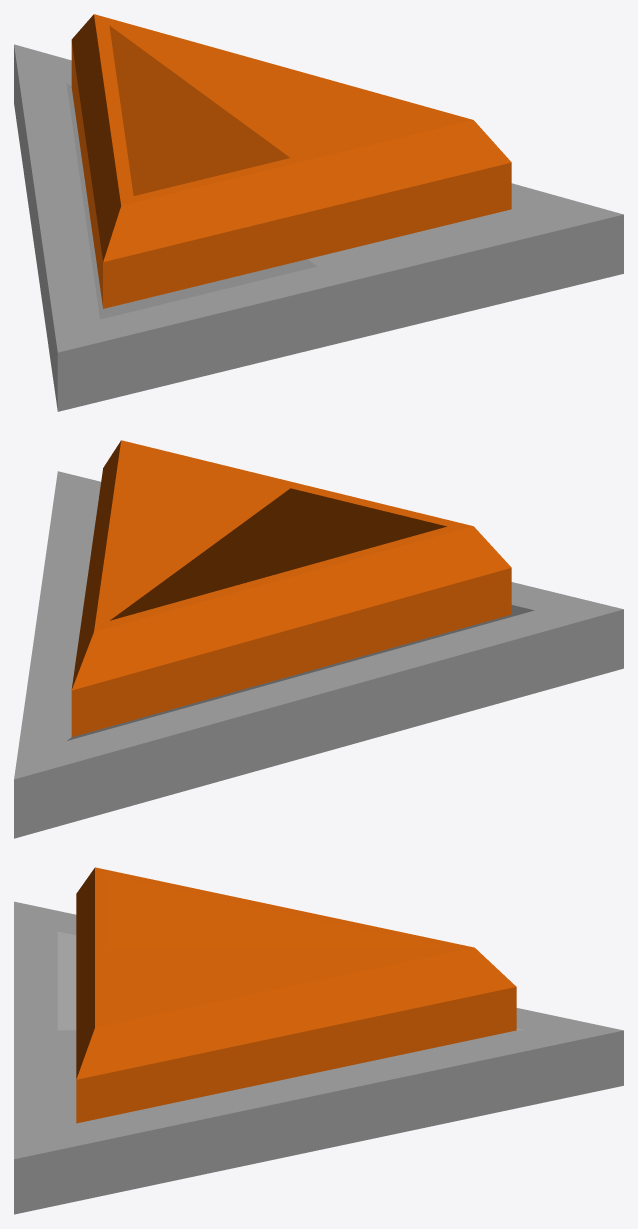
File: OrangeButton.fbx
The picture shows the model from 3 angles, top to bottom: view 1: azimuth 30°, elevation 25°; view 2: azimuth 150°, elevation 25°; view 3: azimuth 270°, elevation 25°; orthographic projection. The views are drawn at different scales.
Parts seen in each view (by area): view 1: Plane.008, Plane.009; view 2: Plane.008, Plane.009; view 3: Plane.008, Plane.009.
Boxes of the visible parts, x1=… form: Plane.008: x1=71, y1=14, x2=511, y2=308; Plane.009: x1=14, y1=44, x2=623, y2=411; Plane.008: x1=71, y1=440, x2=511, y2=736; Plane.009: x1=14, y1=471, x2=623, y2=838; Plane.008: x1=76, y1=867, x2=516, y2=1123; Plane.009: x1=14, y1=901, x2=623, y2=1214.
Bounding box in the file's own units: 200 × 49.98 × 200.
